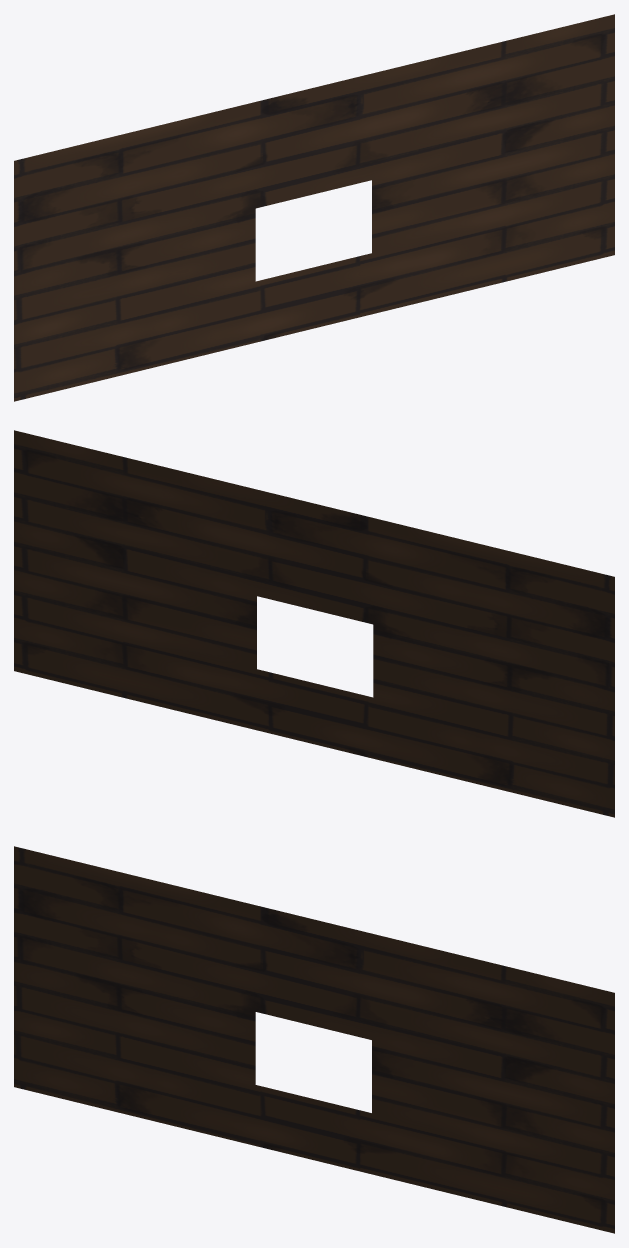
Rendered from Wall.fbx.
3 renders of one model, top to bottom at view 1: azimuth 30°, elevation 25°; view 2: azimuth 150°, elevation 25°; view 3: azimuth 330°, elevation 25°, orthographic.
Visible parts, largest first — view 1: Plane; view 2: Plane; view 3: Plane.
Boxes of the visible parts, bbox=[...] form: Plane: bbox=[14, 14, 614, 401]; Plane: bbox=[14, 430, 614, 817]; Plane: bbox=[14, 846, 614, 1233].
Size of the model in its own units: 1300 by 498 by 8.65e-05.
Materials: 1 (1 with a texture image).
